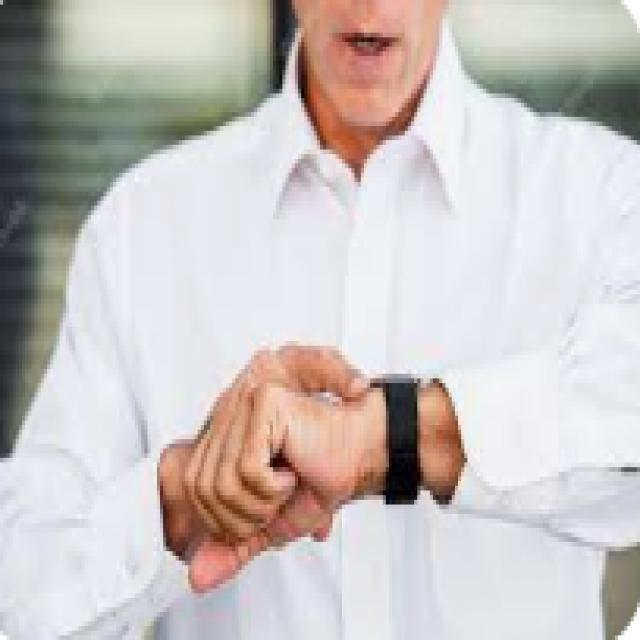Watch: (368, 366, 427, 508)
